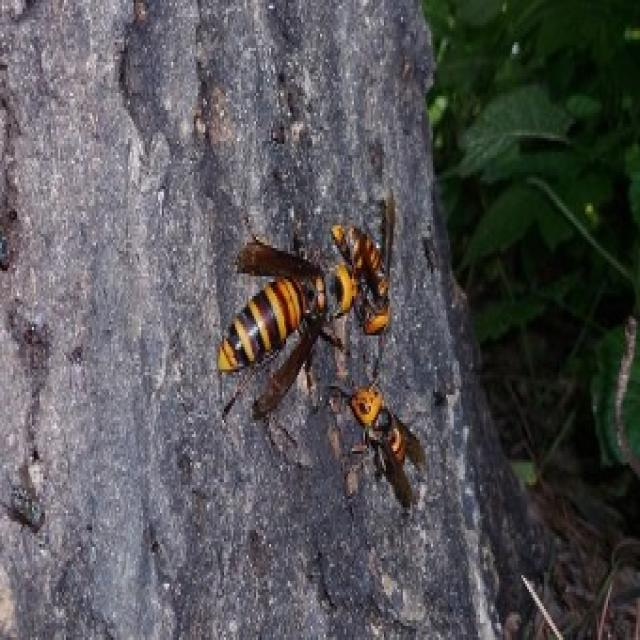Wasp: (199, 223, 338, 418), (330, 190, 402, 331), (350, 379, 428, 507)
